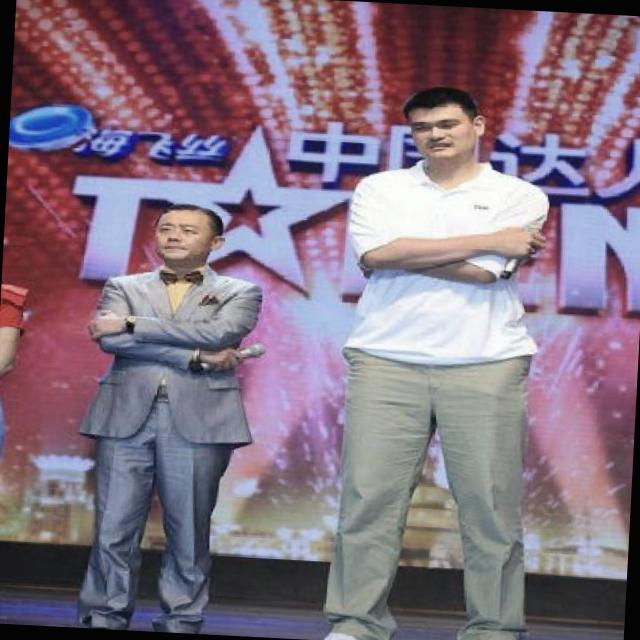Person: (261, 54, 588, 640), (62, 182, 308, 638)
